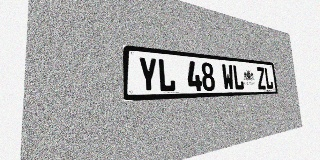4: (186, 61, 202, 91)
8: (201, 62, 215, 91)
L: (157, 58, 176, 92), (232, 65, 244, 90), (264, 67, 274, 89)
W: (221, 64, 234, 90)
Y: (138, 56, 158, 93)
Z: (256, 67, 266, 89)
